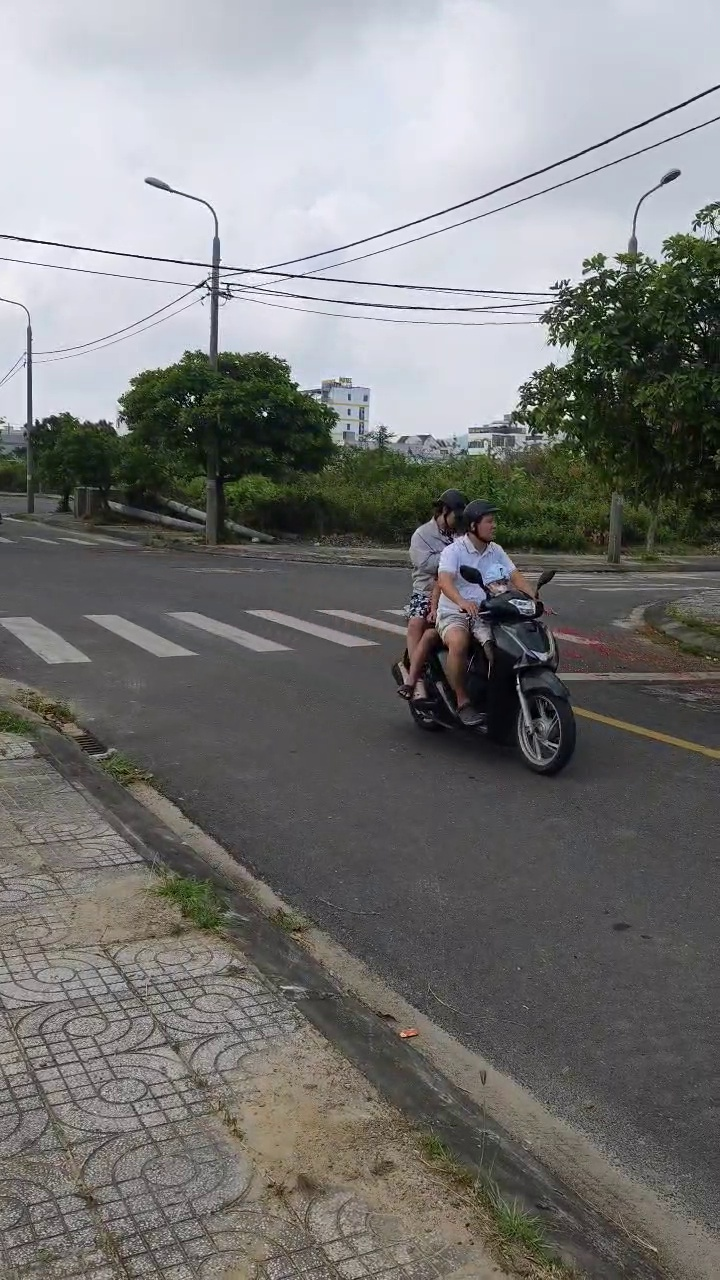no_helmet: (462, 499, 502, 554), (432, 488, 469, 536)
